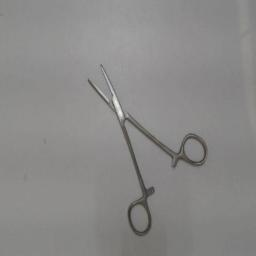Mayo Needle Holder: (82, 56, 210, 236)
